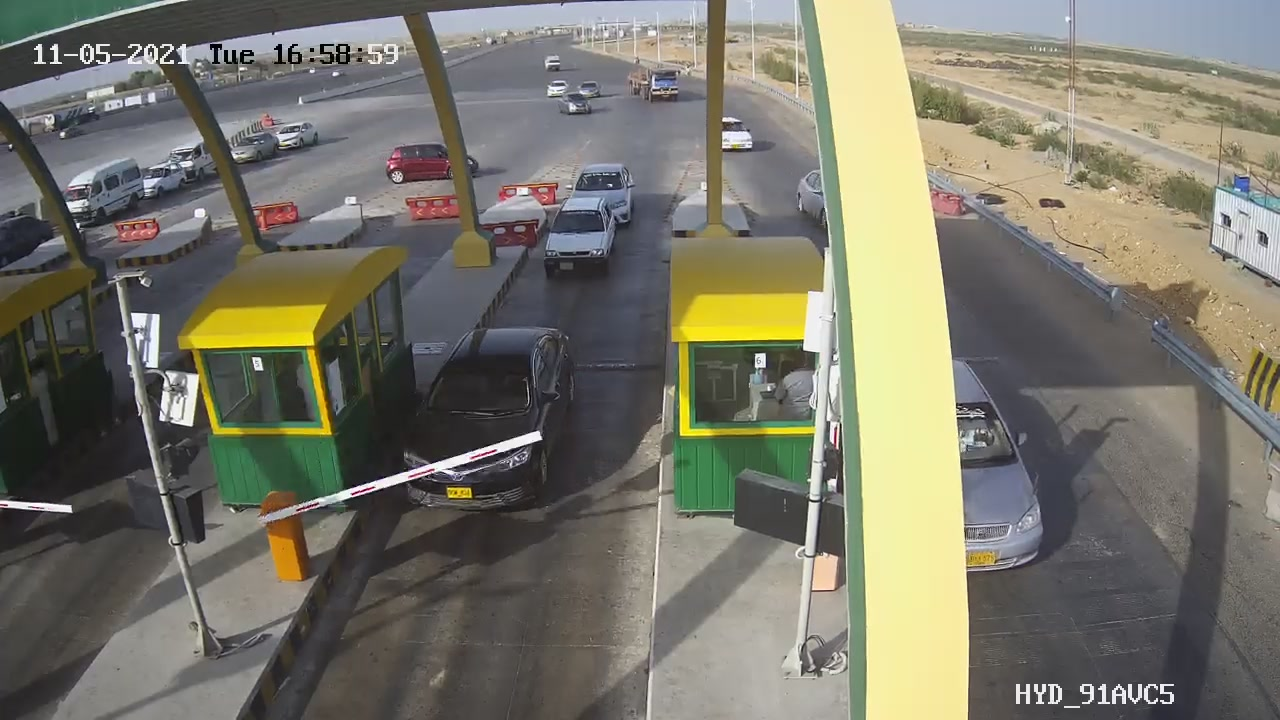F1: (388, 311, 596, 531), (522, 189, 627, 295)
